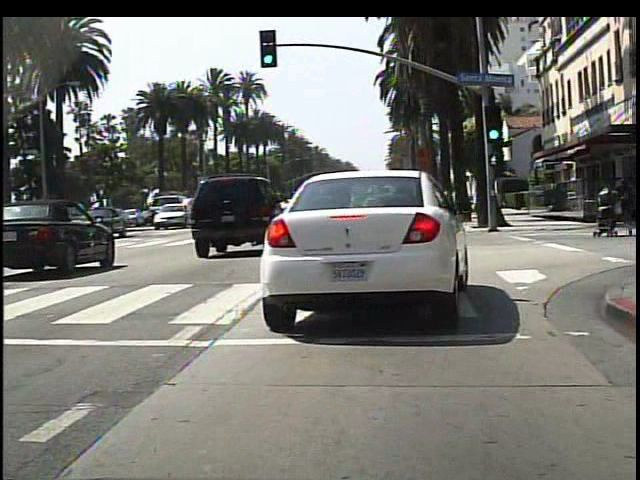person: (587, 163, 635, 242)
